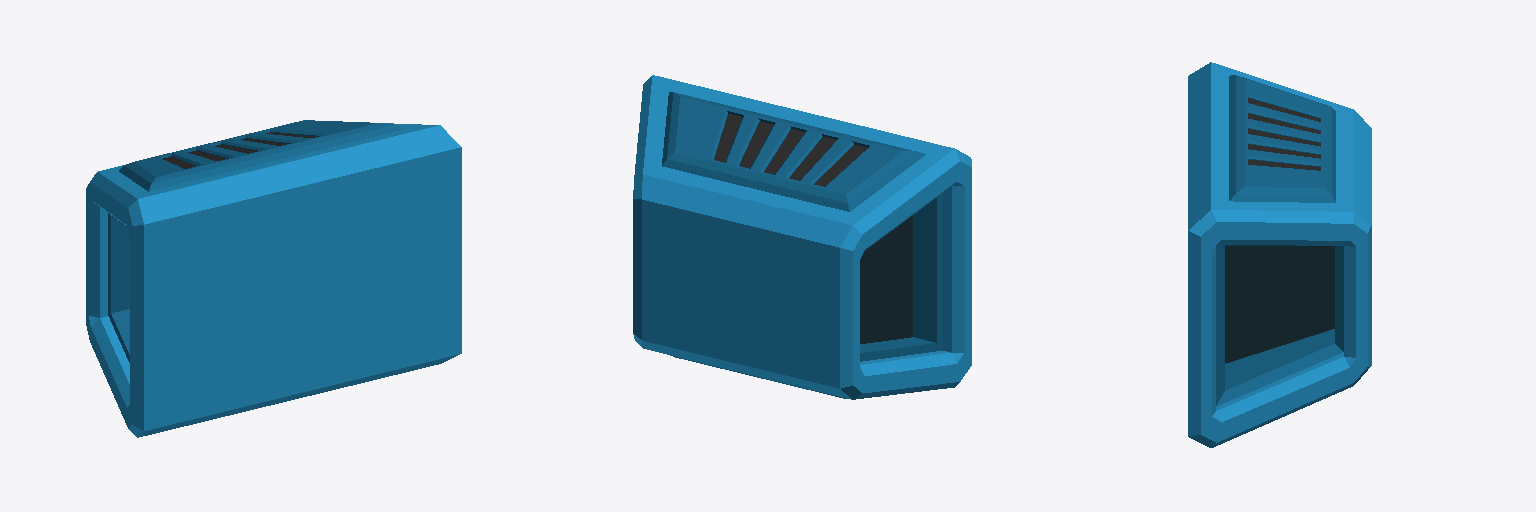
Rendered from Spacestation_Propulsion_Hyperdrive_Sidemount_Medium.obj.
3 renders of one model, left to right at view 1: azimuth 30°, elevation 25°; view 2: azimuth 150°, elevation 25°; view 3: azimuth 270°, elevation 25°, orthographic.
Visible parts, largest first — view 1: object5, object7, object4, object3; view 2: object5, object7, object1, object4, object3; view 3: object5, object1, object7, object4, object3.
Boxes of the visible parts, x1=… form: object5: x1=86, y1=123, x2=461, y2=437; object7: x1=119, y1=120, x2=404, y2=191; object4: x1=108, y1=213, x2=129, y2=362; object3: x1=163, y1=132, x2=317, y2=168; object5: x1=633, y1=75, x2=971, y2=399; object7: x1=662, y1=92, x2=925, y2=211; object1: x1=860, y1=216, x2=912, y2=343; object4: x1=860, y1=193, x2=942, y2=361; object3: x1=714, y1=114, x2=867, y2=186; object5: x1=1188, y1=62, x2=1371, y2=447; object1: x1=1225, y1=246, x2=1334, y2=363; object7: x1=1229, y1=75, x2=1335, y2=202; object4: x1=1216, y1=245, x2=1343, y2=406; object3: x1=1248, y1=98, x2=1320, y2=170.
Size of the model in its own units: 2.06 by 1.45 by 1.